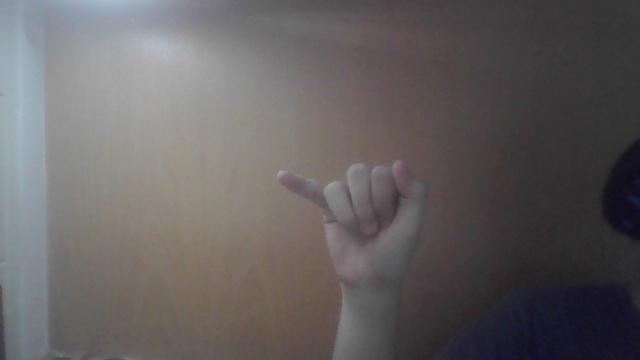Right: (270, 153, 428, 284)
